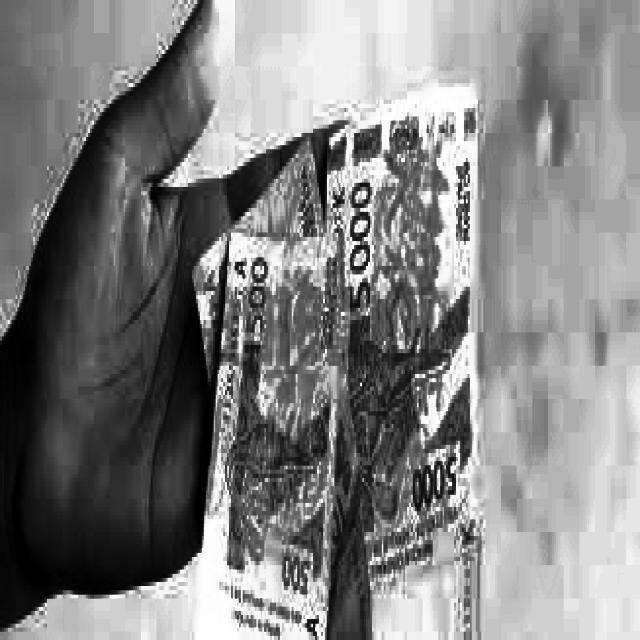junni: (328, 88, 478, 637)
teemeer: (200, 238, 351, 637)
